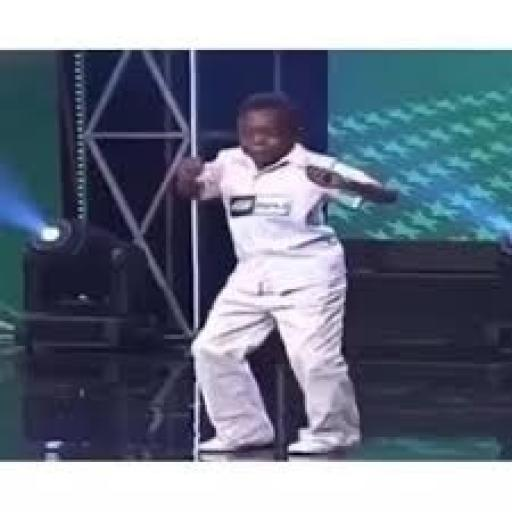dancing: (170, 86, 402, 460)
